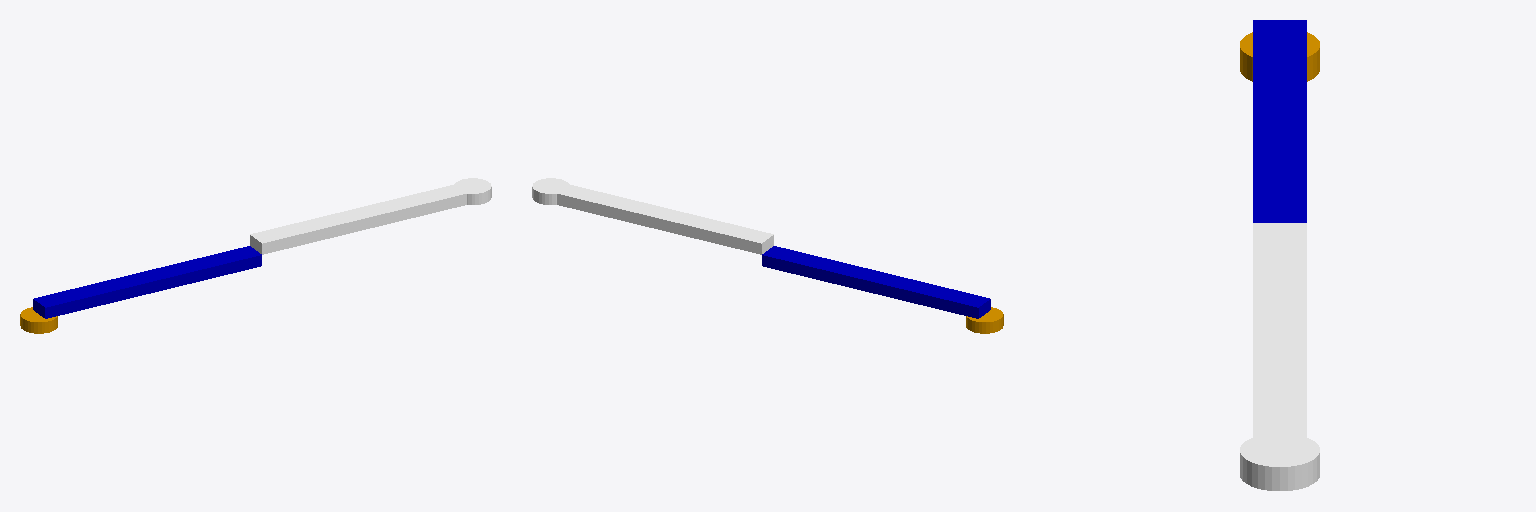
The robot description file, URDF, robot "TwoJointRobot":
<?xml version="1.0" ?>
<!-- =================================================================================== -->
<!-- |    This document was autogenerated by xacro from TwoJointRobot_woCyl.xacro      | -->
<!-- |    EDITING THIS FILE BY HAND IS NOT RECOMMENDED                                 | -->
<!-- =================================================================================== -->
<robot name="TwoJointRobot" xmlns:xacro="http://www.ros.org/wiki/xacro">
  <material name="blue">
    <color rgba="0 0 0.8 1"/>
  </material>
  <material name="white">
    <color rgba="1 1 1 1"/>
  </material>
  <link name="base_link">
    <visual>
      <geometry>
        <cylinder length="0.05" radius="0.075"/>
      </geometry>
      <origin rpy="0 0 0" xyz="0 0 0.025"/>
    </visual>
    <collision>
      <geometry>
        <cylinder length="0.05" radius="0.075"/>
      </geometry>
      <origin rpy="0 0 0" xyz="0 0 0.025"/>
    </collision>
    <inertial>
      <mass value="0.2"/>
      <inertia ixx="0.000322916666667" ixy="0.0" ixz="0.0" iyy="0.000322916666667" iyz="0.0" izz="0.0005625"/>
    </inertial>
  </link>
  <link name="link_23_cyl">
    <visual>
      <geometry>
        <cylinder length="0.05" radius="0.075"/>
      </geometry>
      <origin rpy="0 0 0" xyz="0 0 0"/>
      <material name="white"/>
    </visual>
    <collision>
      <geometry>
        <cylinder length="0.05" radius="0.075"/>
      </geometry>
      <origin rpy="0 0 0" xyz="0 0 0"/>
    </collision>
    <inertial>
      <mass value="0.2"/>
      <inertia ixx="0.000322916666667" ixy="0.0" ixz="0.0" iyy="0.000322916666667" iyz="0.0" izz="0.0005625"/>
    </inertial>
  </link>
  <link name="link_1">
    <visual>
      <geometry>
        <box size="1.0 0.1 0.05"/>
      </geometry>
      <origin rpy="0 0 0" xyz="0.5 0 0"/>
      <material name="blue"/>
    </visual>
    <collision>
      <geometry>
        <box size="1.0 0.1 0.05"/>
      </geometry>
      <origin rpy="0 0 0" xyz="0.5 0 0"/>
    </collision>
    <inertial>
      <mass value="0.5"/>
      <inertia ixx="0.00208333333333" ixy="0.0125" ixz="0.00625" iyy="0.167083333333" iyz="0.000625" izz="0.168333333333"/>
    </inertial>
  </link>
  <link name="link_2">
    <visual>
      <geometry>
        <box size="1.0 0.1 0.05"/>
      </geometry>
      <origin rpy="0 0 0" xyz="0.5 0 0"/>
      <material name="white"/>
    </visual>
    <collision>
      <geometry>
        <box size="1.0 0.1 0.05"/>
      </geometry>
      <origin rpy="0 0 0" xyz="0.5 0 0"/>
    </collision>
    <inertial>
      <mass value="0.5"/>
      <inertia ixx="0.00208333333333" ixy="0.0125" ixz="0.00625" iyy="0.167083333333" iyz="0.000625" izz="0.168333333333"/>
    </inertial>
  </link>
  <joint name="joint_1" type="revolute">
    <axis xyz="0 0 1"/>
    <limit effort="10000" lower="-3.14" upper="3.14" velocity="5"/>
    <dynamics damping="0" friction="0"/>
    <origin rpy="0 0 0" xyz="0 0 0.075"/>
    <parent link="base_link"/>
    <child link="link_1"/>
  </joint>
  <joint name="joint_2" type="revolute">
    <axis xyz="0 0 1"/>
    <limit effort="10000" lower="-3.14" upper="3.14" velocity="5"/>
    <dynamics damping="0" friction="0"/>
    <origin rpy="0 0 0" xyz="1.0 0. 0.05"/>
    <parent link="link_1"/>
    <child link="link_2"/>
  </joint>
  <joint name="link_23" type="fixed">
    <origin rpy="0 0 0" xyz="1.0 0 0"/>
    <parent link="link_2"/>
    <child link="link_23_cyl"/>
  </joint>
</robot>


--- Facts derived from the render (not from the file) ---
Views: 3 orthographic renders of the robot side by side, from view 1: azimuth 30°, elevation 25°; view 2: azimuth 150°, elevation 25°; view 3: azimuth 270°, elevation 25°.
Model TwoJointRobot with 4 links and 3 joints (2 revolute, 1 fixed), rooted at base_link, posed every joint at zero.
Visible links, largest first — view 1: link_1, link_2, base_link, link_23_cyl; view 2: link_1, link_2, base_link, link_23_cyl; view 3: link_2, link_1, link_23_cyl, base_link.
Boxes of the visible links, <box> form: link_1: <box>33,246,261,318</box>; link_2: <box>250,183,478,254</box>; base_link: <box>20,307,57,333</box>; link_23_cyl: <box>454,178,491,204</box>; link_1: <box>762,246,990,318</box>; link_2: <box>545,184,773,254</box>; base_link: <box>966,307,1003,333</box>; link_23_cyl: <box>532,178,569,204</box>; link_2: <box>1253,223,1306,449</box>; link_1: <box>1253,20,1306,222</box>; link_23_cyl: <box>1240,434,1319,490</box>; base_link: <box>1240,32,1319,81</box>.
Bounding box of the posed robot: 2.15 × 0.15 × 0.15 m (x, y, z).
Geometry: primitives only (box / cylinder / sphere), no mesh files.